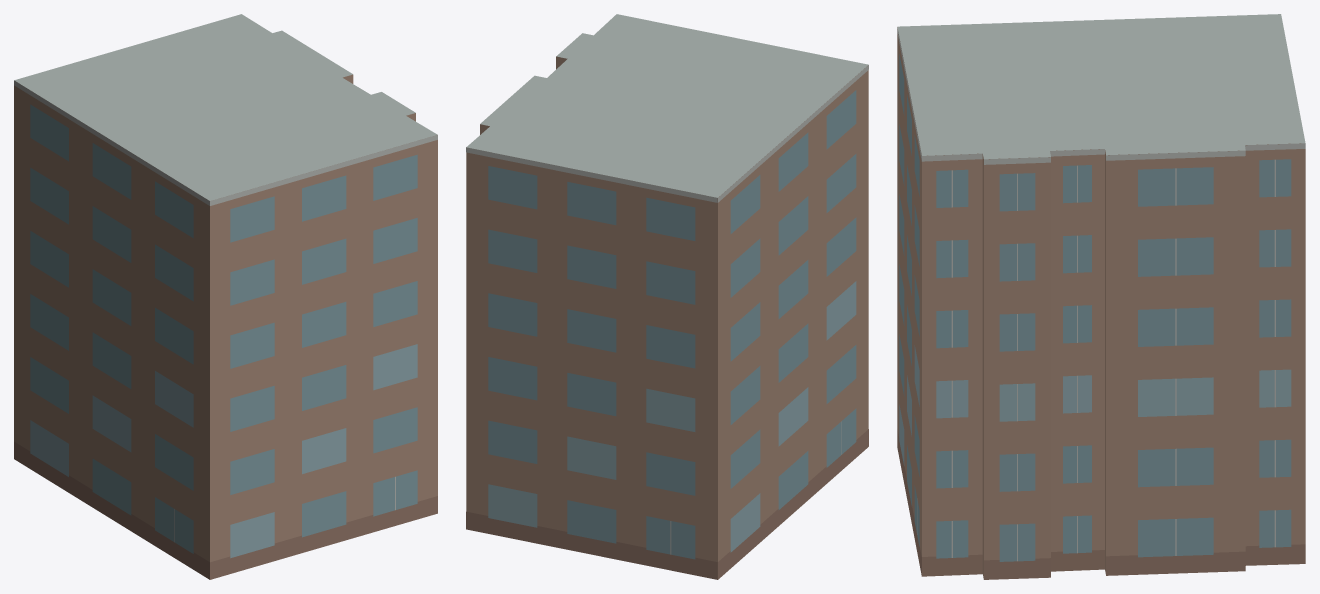
Rendered from survey-upis-32754618.glb.
3 views of the same model, side by side, from view 1: azimuth 30°, elevation 25°; view 2: azimuth 150°, elevation 25°; view 3: azimuth 270°, elevation 25° (orthographic). The views are drawn at different scales.
Visible parts, largest first — view 1: survey-upis-32754618.tmp; view 2: survey-upis-32754618.tmp; view 3: survey-upis-32754618.tmp.
Boxes of the visible parts, left/top/right/bottom form: survey-upis-32754618.tmp: left=14, top=14, right=437, bottom=579; survey-upis-32754618.tmp: left=466, top=14, right=868, bottom=579; survey-upis-32754618.tmp: left=897, top=14, right=1305, bottom=579.
Bounding box in the file's own units: 13.56 × 18.3 × 16.11.
